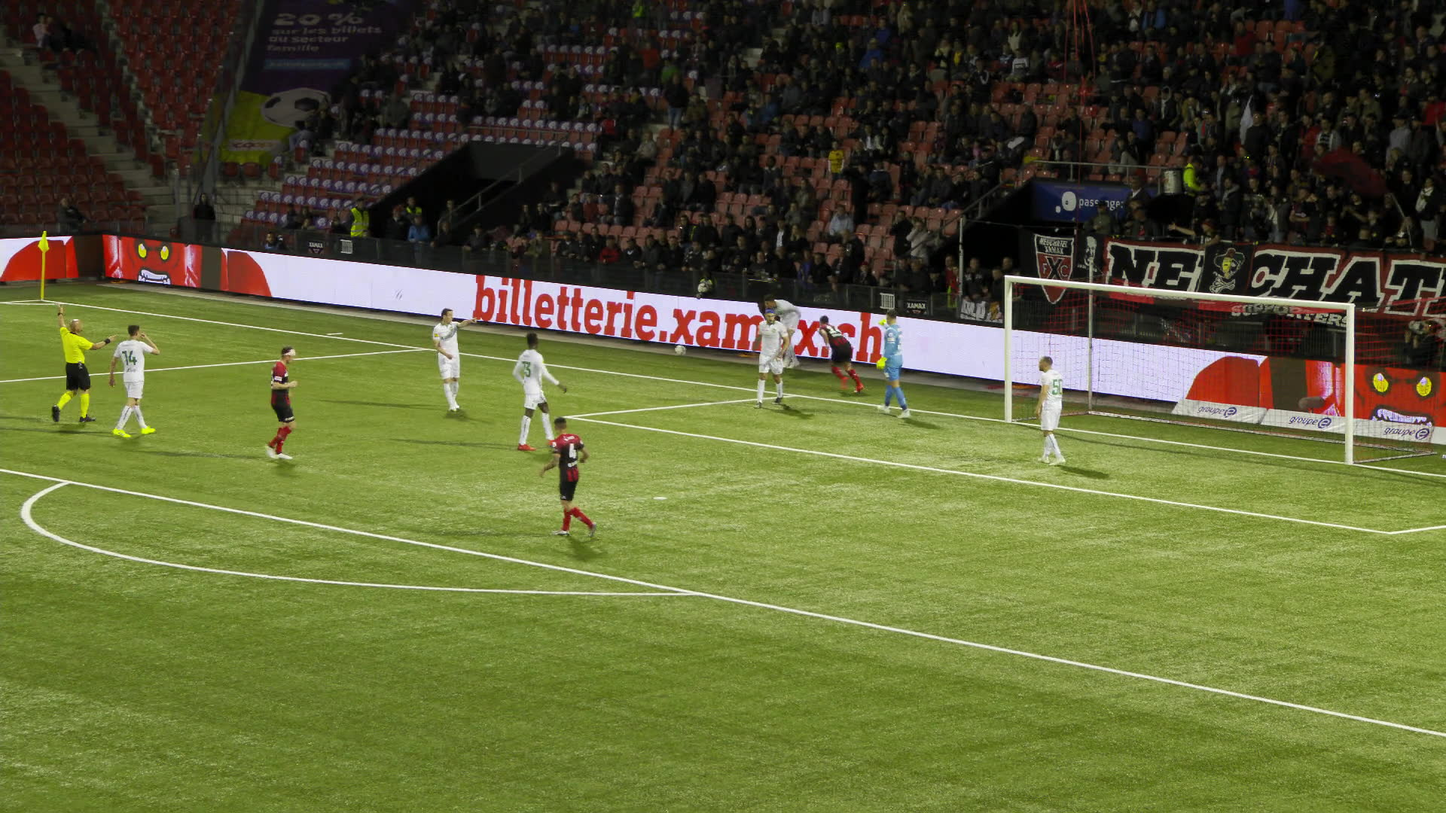ball: (676, 343, 686, 354)
player: (536, 416, 598, 538), (511, 331, 566, 450), (108, 323, 160, 438), (256, 344, 300, 461), (432, 306, 477, 412), (870, 307, 909, 418), (752, 306, 790, 409), (1033, 354, 1066, 464), (817, 315, 862, 393), (761, 294, 804, 369), (755, 289, 782, 364)
referee: (48, 300, 116, 424)
